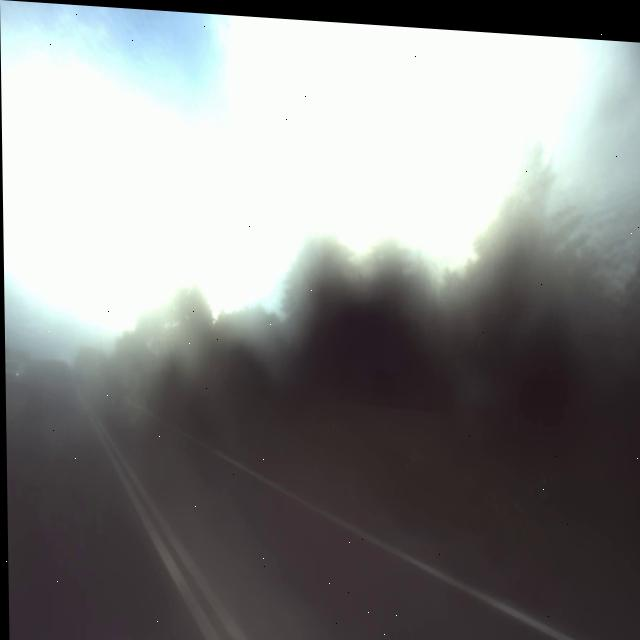car: (4, 348, 23, 392)
